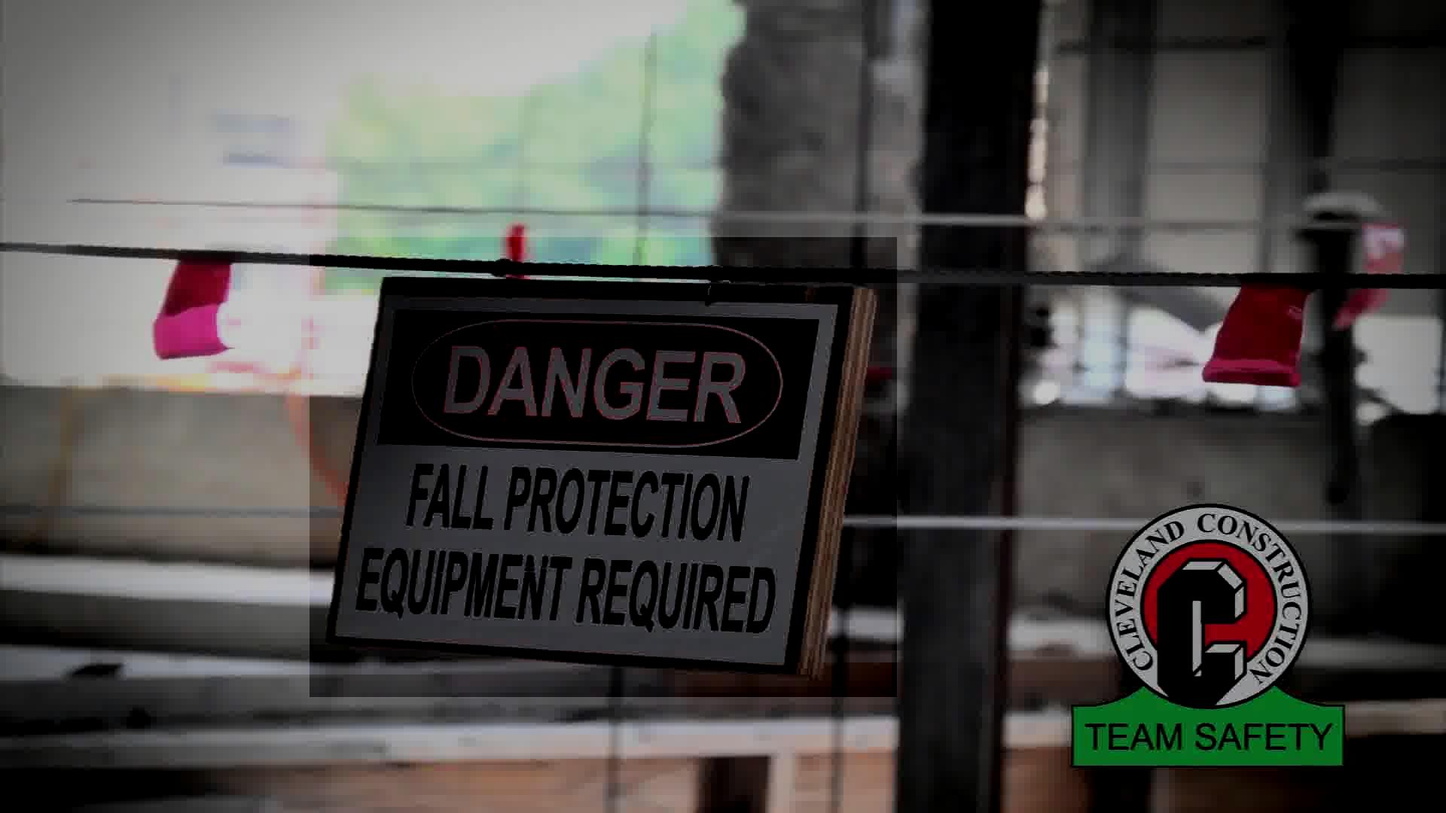safety_signage: (310, 237, 897, 697)
